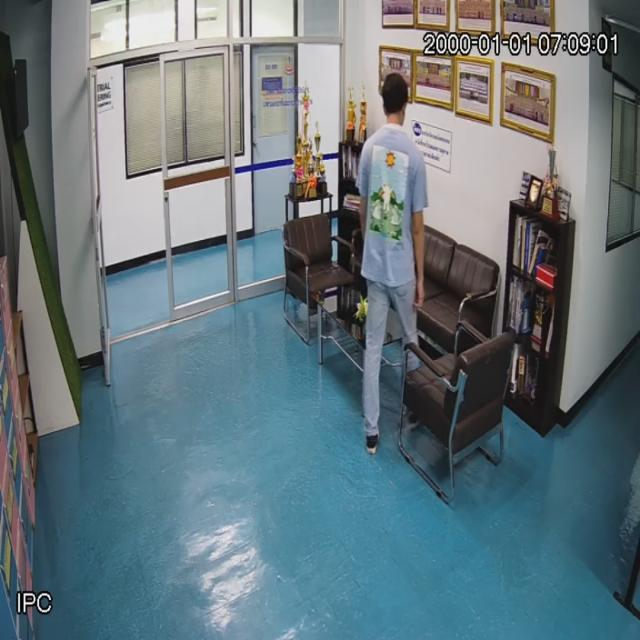normal: (361, 76, 426, 340)
